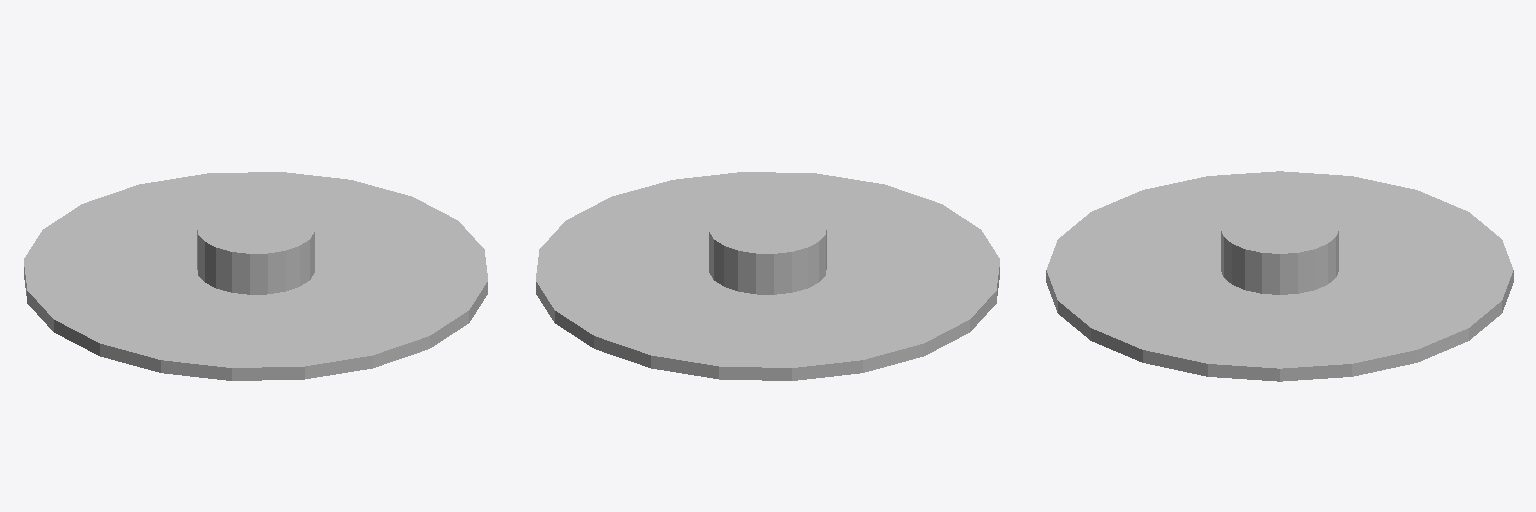
The model's file is basebrinquedoxicara.obj.
3 renders of one model, left to right at view 1: azimuth 30°, elevation 25°; view 2: azimuth 150°, elevation 25°; view 3: azimuth 270°, elevation 25°, orthographic.
Parts seen in each view (by area): view 1: basebrinquedoxicara1:pCylinder1; view 2: basebrinquedoxicara1:pCylinder1; view 3: basebrinquedoxicara1:pCylinder1.
Boxes of the visible parts, <box> form: basebrinquedoxicara1:pCylinder1: <box>24,172,487,380</box>; basebrinquedoxicara1:pCylinder1: <box>536,172,999,380</box>; basebrinquedoxicara1:pCylinder1: <box>1046,171,1513,381</box>.
Size of the model in its own units: 13.75 by 1.75 by 13.75.